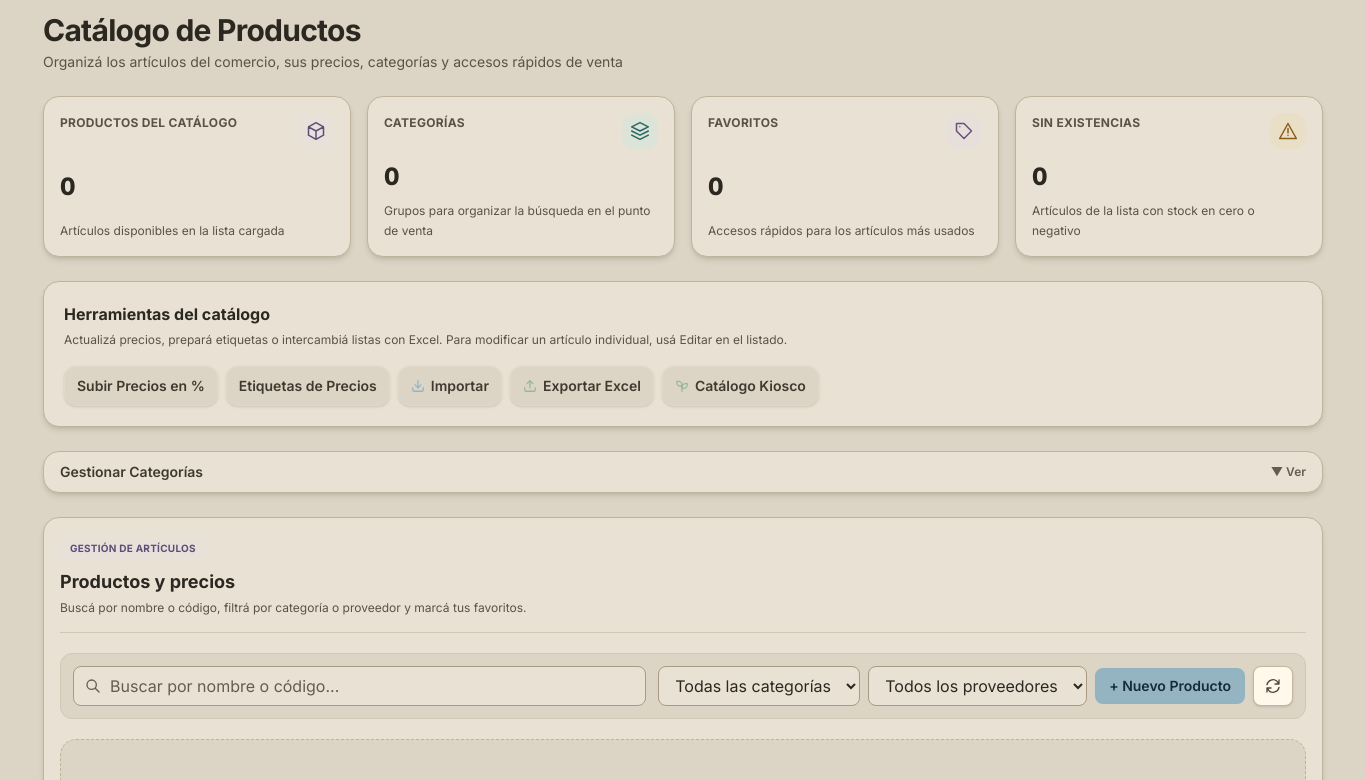
it: presenta indicadores, herramientas y ayudas del catálogo sin perder filtros
This screenshot has width=1366, height=780.
Expected: the heading "Herramientas del catálogo" is shown, [64,304,270,324]
Expected: the dropdown named "Filtrar por categoría" is shown, [658,666,860,706]
Click the button "Gestionar Categorías ▼ Ver". click: (132, 471)
box: [44,452,1322,492]
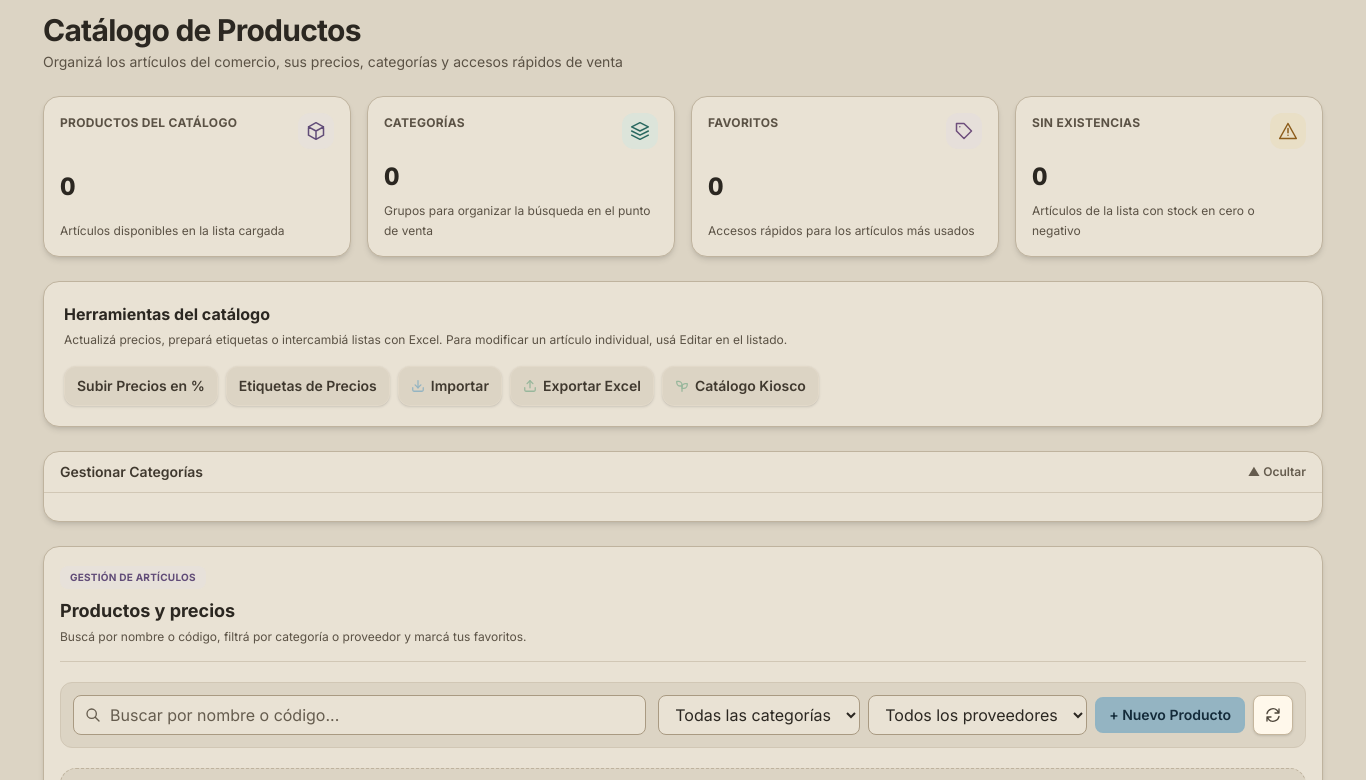
Expected: the button "Gestionar Categorías ▲ Ocultar" is expanded, [44,452,1322,492]
